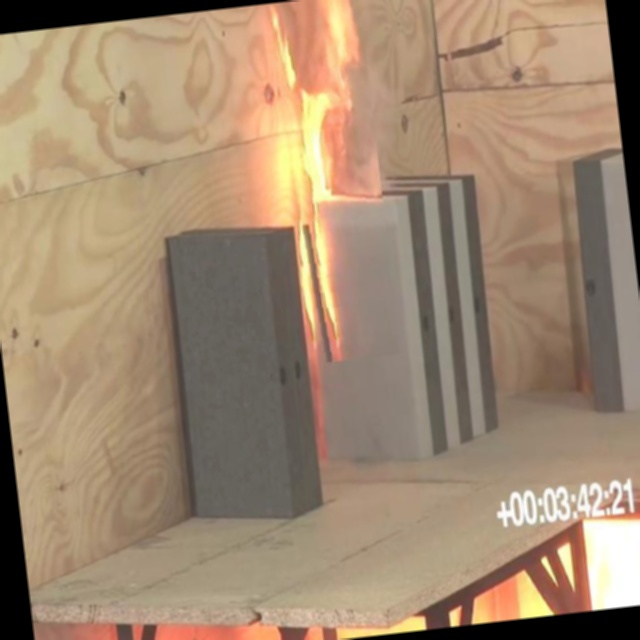fire: (242, 0, 407, 392)
